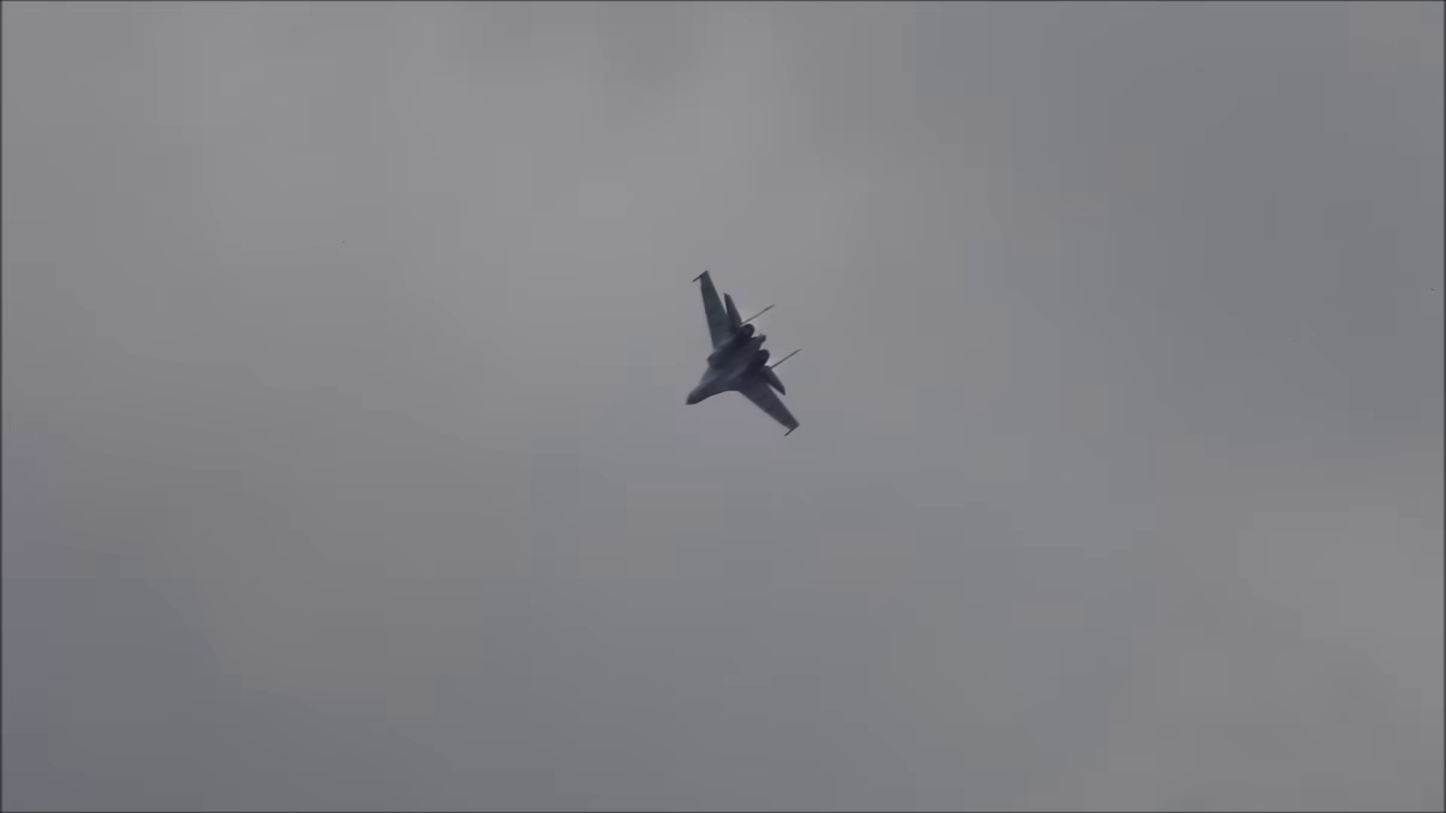Su35: (680, 270, 808, 444)
